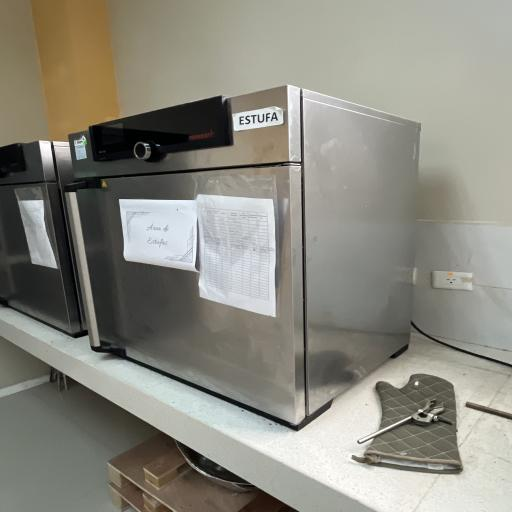Estufa_Memmert: (62, 77, 438, 437)
